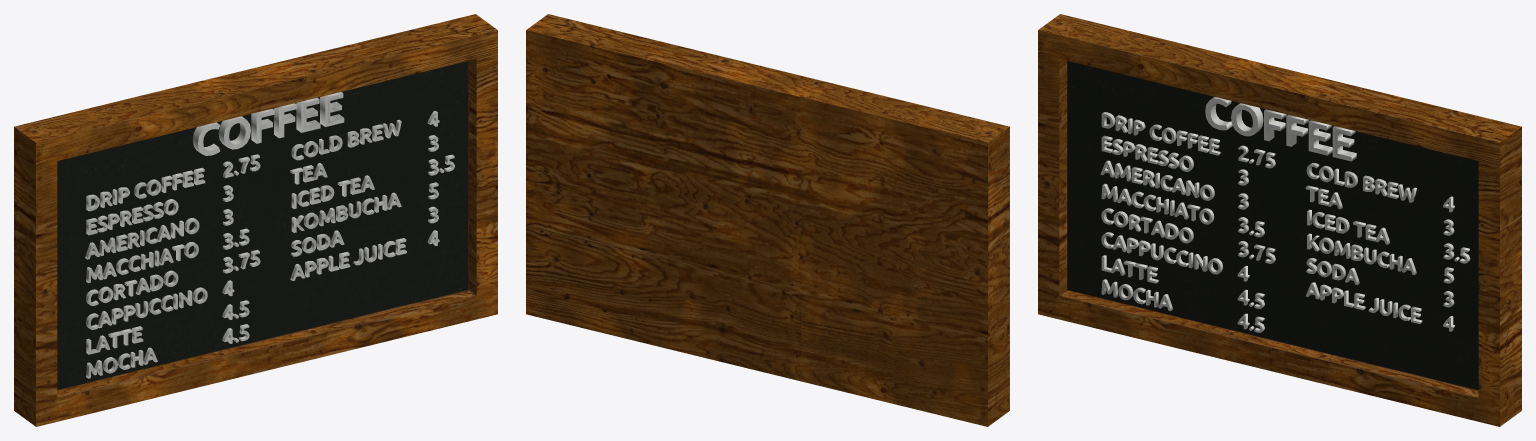
3 renders of one model, left to right at view 1: azimuth 30°, elevation 25°; view 2: azimuth 150°, elevation 25°; view 3: azimuth 330°, elevation 25°, orthographic.
Visible parts, largest first — view 1: Menu; view 2: Menu; view 3: Menu.
Part boxes in pixels (x1,y1,x2,y2): Menu: (14, 14, 497, 426); Menu: (526, 14, 1009, 426); Menu: (1038, 14, 1521, 426).
Bounding box in the file's own units: 1.7 × 1 × 0.1405.
Materials: 1 (1 with a texture image).
